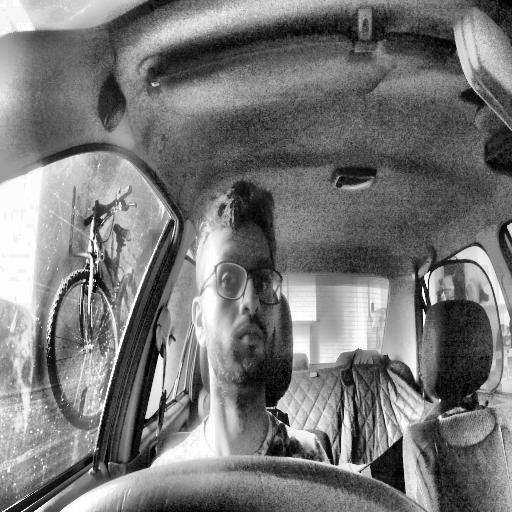awake: (191, 185, 282, 389)
